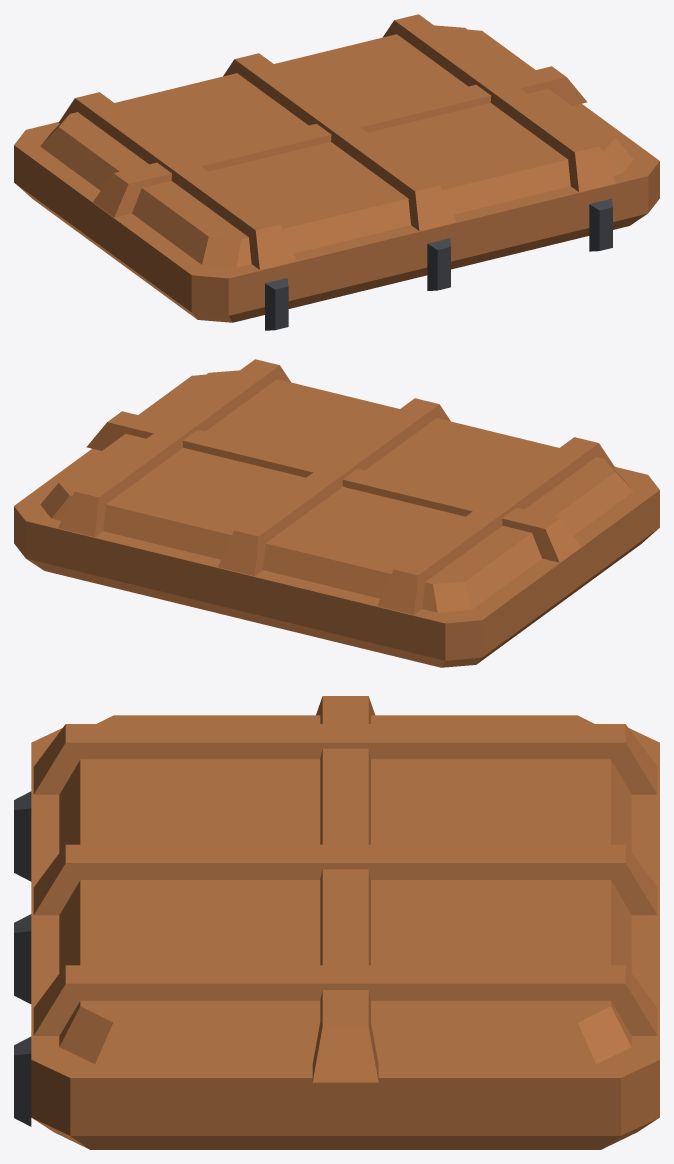
Rendered from SM_Prop_Crate_Plastic_Lid_03.glb.
The picture shows the model from 3 angles, top to bottom: view 1: azimuth 30°, elevation 25°; view 2: azimuth 150°, elevation 25°; view 3: azimuth 270°, elevation 25°; orthographic projection. The views are drawn at different scales.
Visible parts, largest first — view 1: SM_Prop_Crate_Plastic_Lid_03; view 2: SM_Prop_Crate_Plastic_Lid_03; view 3: SM_Prop_Crate_Plastic_Lid_03.
Boxes of the visible parts, x1,y1,x2,y2 form: SM_Prop_Crate_Plastic_Lid_03: (14,14,659,330); SM_Prop_Crate_Plastic_Lid_03: (14,359,659,667); SM_Prop_Crate_Plastic_Lid_03: (14,696,659,1149).
Bounding box in the file's own units: 1.05 × 0.1936 × 0.798.
Materials: 1 (1 with a texture image).
